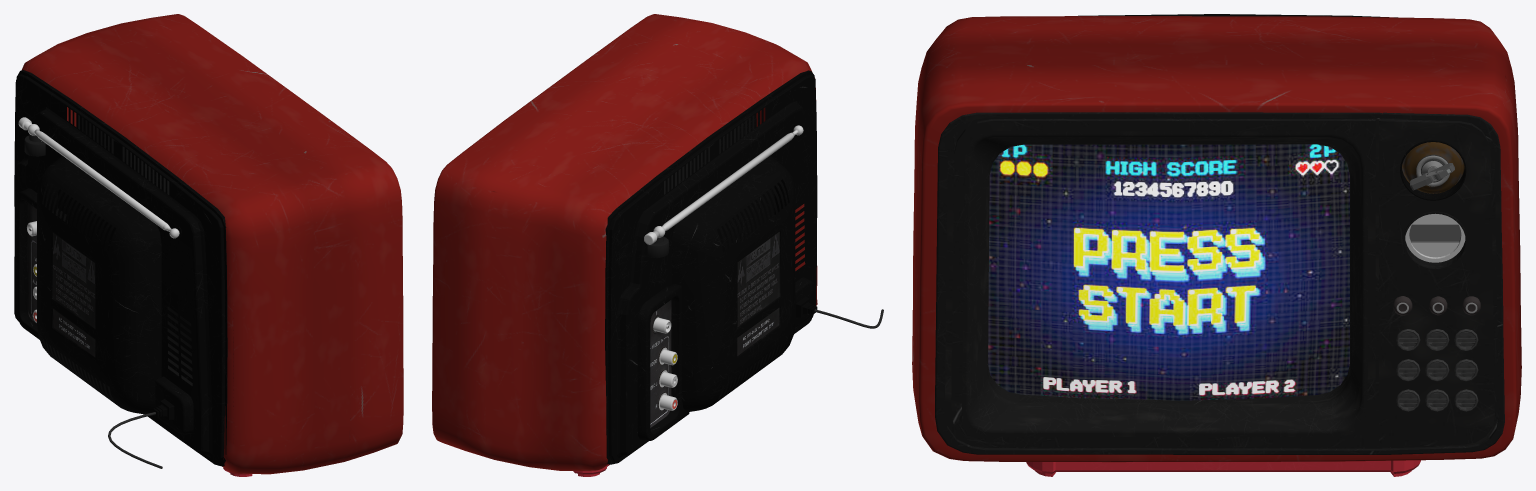
3 renders of one model, left to right at view 1: azimuth 30°, elevation 25°; view 2: azimuth 150°, elevation 25°; view 3: azimuth 270°, elevation 25°, orthographic. The views are drawn at different scales.
Parts seen in each view (by area): view 1: Body, Plane.001, Cube.005, Cube.006, Cube.004, Outlet; view 2: Body, Plane.001, Cube.005, Cube.006, Cube.004, Outlet; view 3: Screen, Body, Frame, Frame.002, Cube.003, Cylinder.005, Nob2, Nob1.
Part boxes in pixels (bbox=[...]): Body: bbox=[22, 14, 403, 474]; Plane.001: bbox=[14, 70, 227, 466]; Cube.005: bbox=[37, 156, 161, 415]; Cube.006: bbox=[16, 188, 67, 339]; Cube.004: bbox=[18, 117, 179, 238]; Outlet: bbox=[155, 376, 193, 434]; Body: bbox=[432, 14, 817, 470]; Plane.001: bbox=[605, 70, 817, 464]; Cube.005: bbox=[671, 156, 795, 412]; Cube.006: bbox=[637, 283, 689, 440]; Cube.004: bbox=[644, 125, 803, 257]; Outlet: bbox=[795, 277, 813, 327]; Screen: bbox=[988, 144, 1349, 400]; Body: bbox=[912, 16, 1521, 462]; Frame: bbox=[935, 112, 1504, 454]; Frame.002: bbox=[962, 131, 1367, 436]; Cube.003: bbox=[1026, 460, 1420, 476]; Cylinder.005: bbox=[1396, 329, 1478, 411]; Nob2: bbox=[1403, 211, 1467, 270]; Nob1: bbox=[1400, 140, 1466, 200].
Size of the model in its own units: 0.5173 by 0.5741 by 0.7984.
38 materials, 13 textured.
